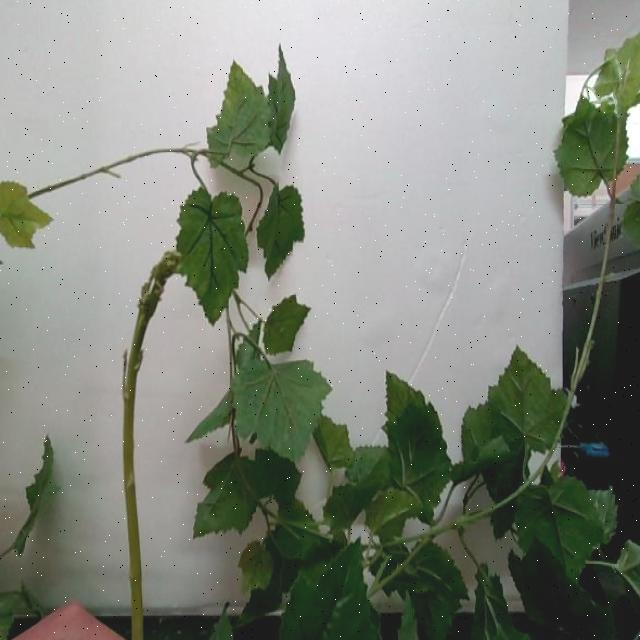aspargus: (125, 247, 184, 640)
